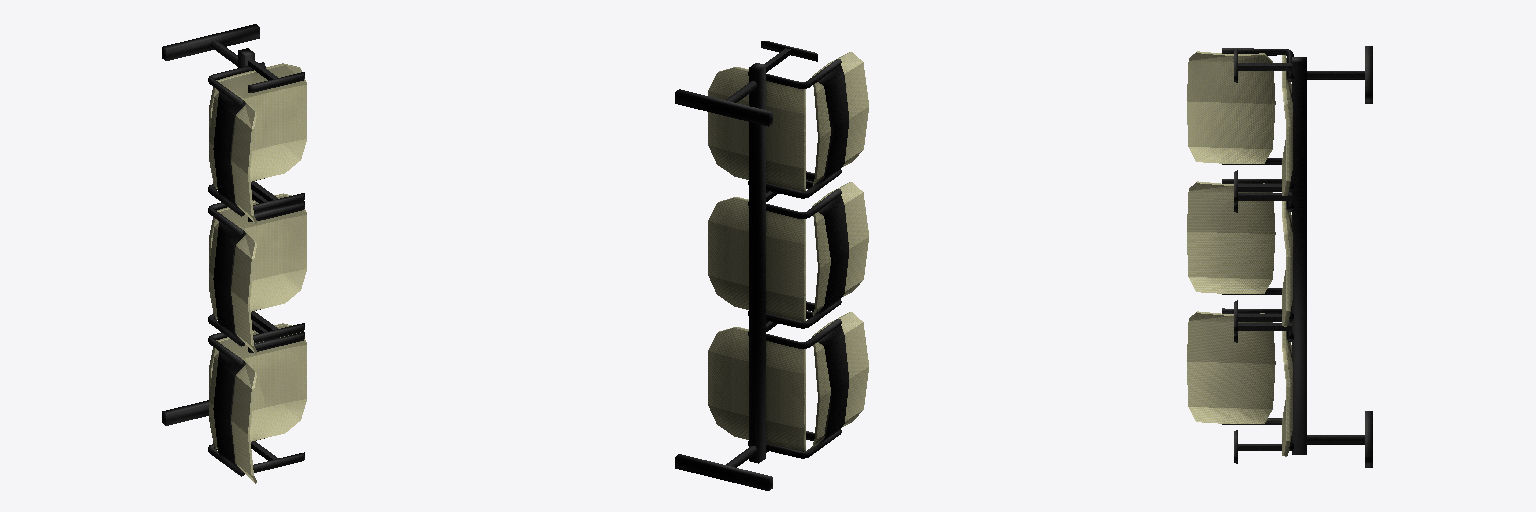
3 renders of one model, left to right at view 1: azimuth 30°, elevation 25°; view 2: azimuth 150°, elevation 25°; view 3: azimuth 270°, elevation 25°, orthographic.
Parts seen in each view (by area): view 1: WhiteChipChair_Plane.019; view 2: WhiteChipChair_Plane.019; view 3: WhiteChipChair_Plane.019.
Part boxes in pixels (bbox=[...]): WhiteChipChair_Plane.019: bbox=[162, 24, 306, 483]; WhiteChipChair_Plane.019: bbox=[675, 41, 868, 490]; WhiteChipChair_Plane.019: bbox=[1187, 46, 1372, 467].
Bounding box in the file's own units: 0.4554 × 1.56 × 0.6721.
Materials: 1 (1 with a texture image).